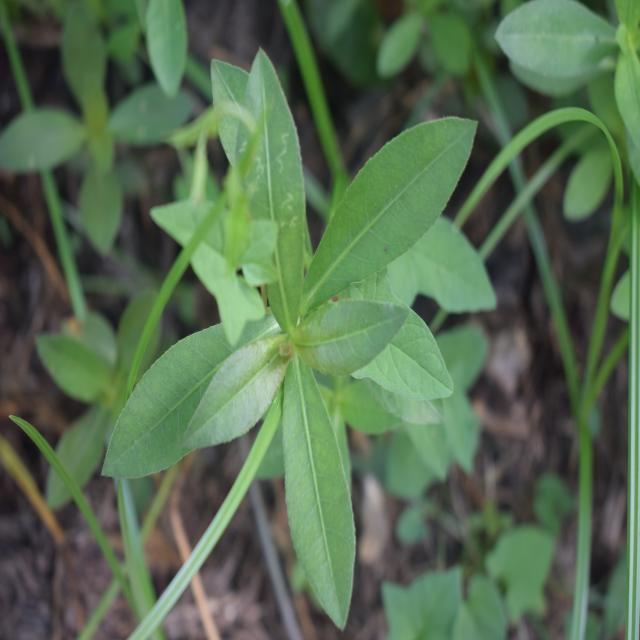Alligatorweed: (137, 94, 450, 574)
